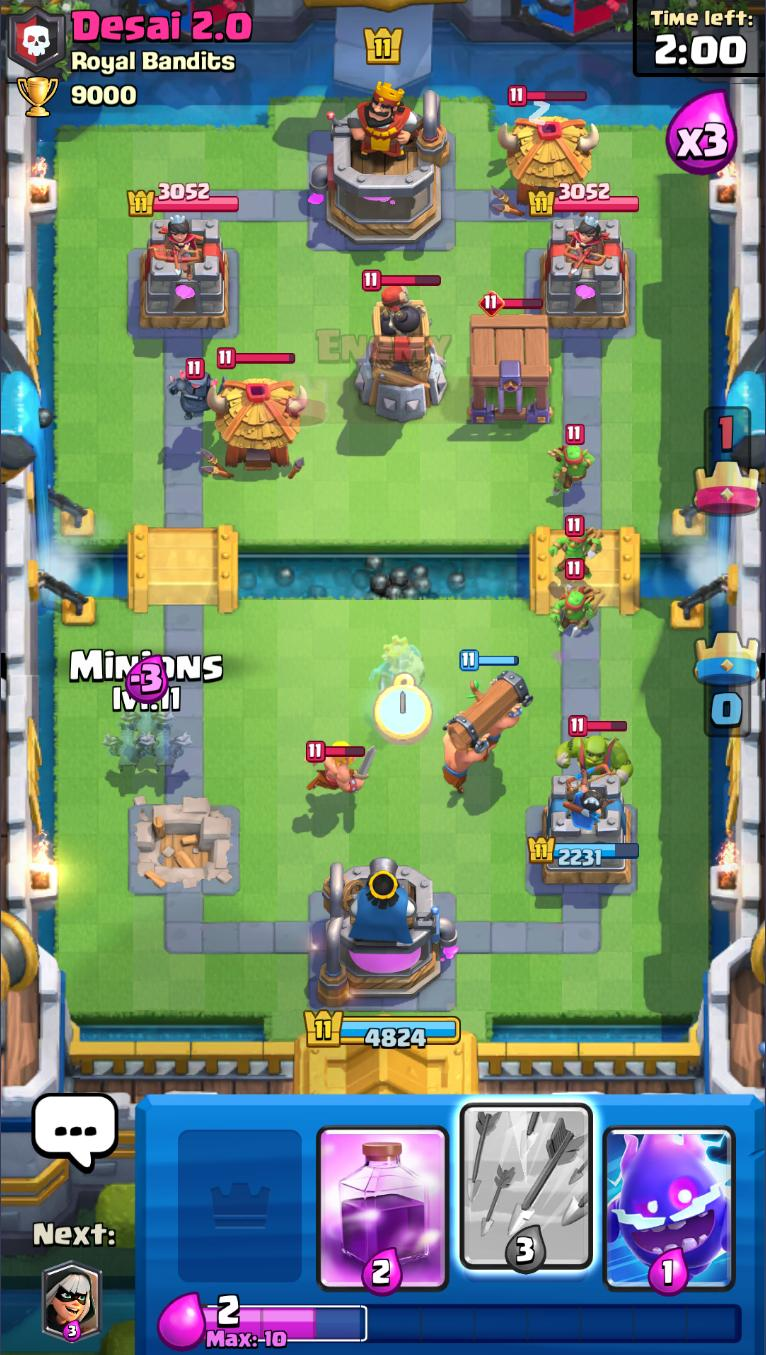ArrowDeck: (454, 1097, 600, 1294)
BanditNext: (43, 1263, 103, 1344)
Barbarian: (301, 738, 375, 802)
BombTower: (353, 269, 449, 418)
ElectroSpiritDeck: (600, 1097, 744, 1294)
Elixir: (202, 1295, 745, 1352)
Empty: (165, 1096, 307, 1295)
EnemyTower: (137, 214, 231, 333), (538, 214, 632, 331)
EvoGoblinCage: (464, 289, 554, 429)
GoblinCageGoblin: (555, 715, 634, 784)
GoblinHut: (496, 85, 607, 213), (203, 347, 297, 471)
KingTower: (309, 80, 454, 248)
MiniPekka: (168, 360, 226, 423)
MyBattleRam: (438, 649, 534, 799)
MyKingHP: (302, 1006, 463, 1051)
MyKingTower: (318, 855, 460, 1009)
MyPrincessTower: (526, 768, 642, 889)
MyPrincessTowerBrocken: (126, 788, 242, 893)
MyPrincessTowerHP: (527, 835, 642, 867)
MyRoyaleGhost: (372, 634, 428, 705)
PrincessTower: (549, 214, 604, 275), (152, 214, 202, 273)
RageDeck: (311, 1097, 454, 1295)
SpearGoblin: (545, 560, 600, 635), (547, 424, 597, 497), (548, 516, 603, 578)
TowerPrincessHP: (127, 180, 241, 217), (527, 181, 640, 216)
